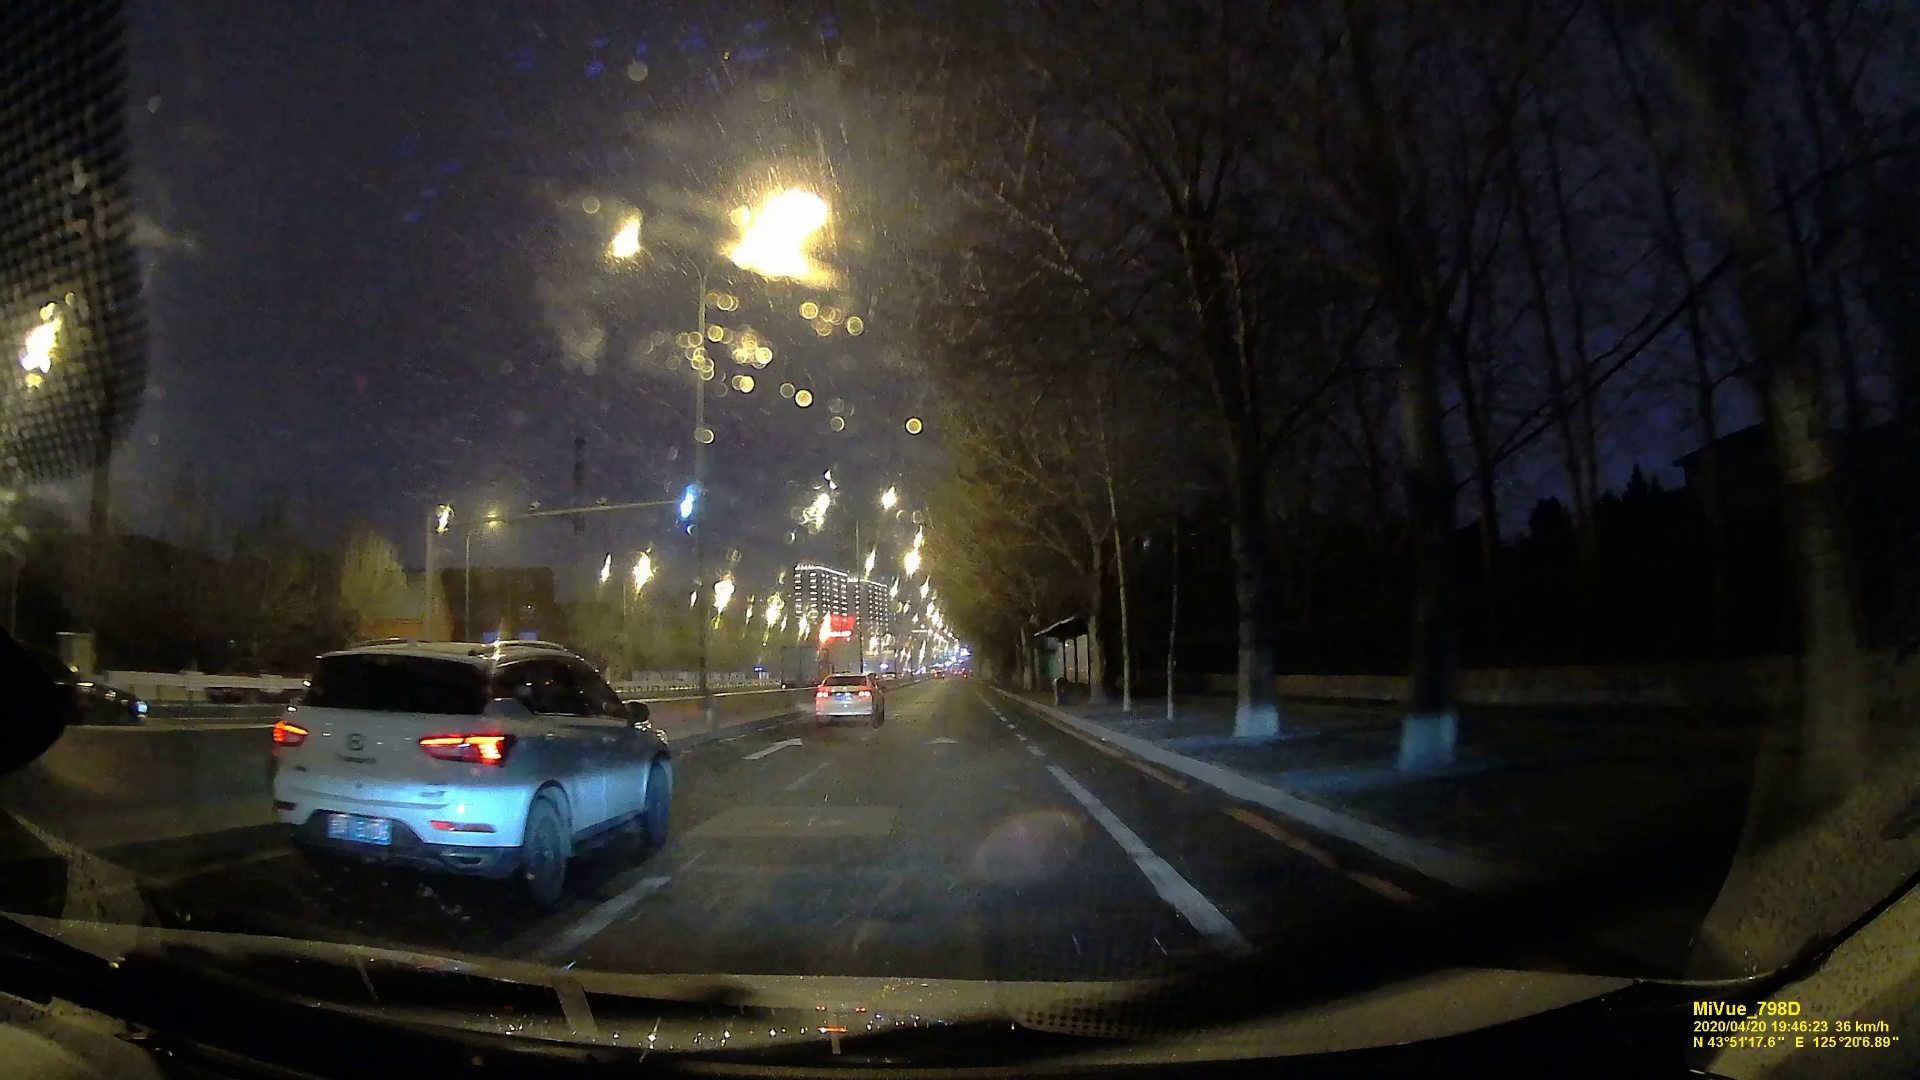vehicle: (272, 626, 674, 895), (812, 671, 885, 727)
